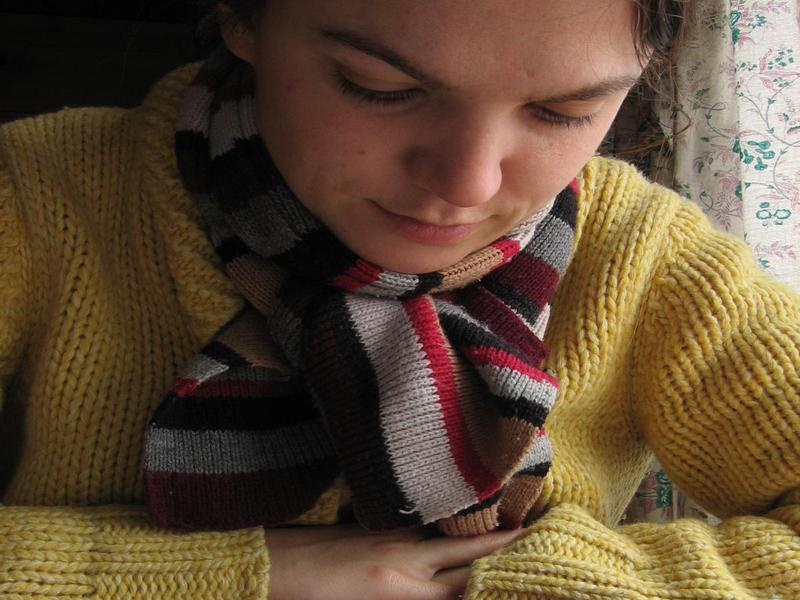person: (2, 3, 798, 600)
